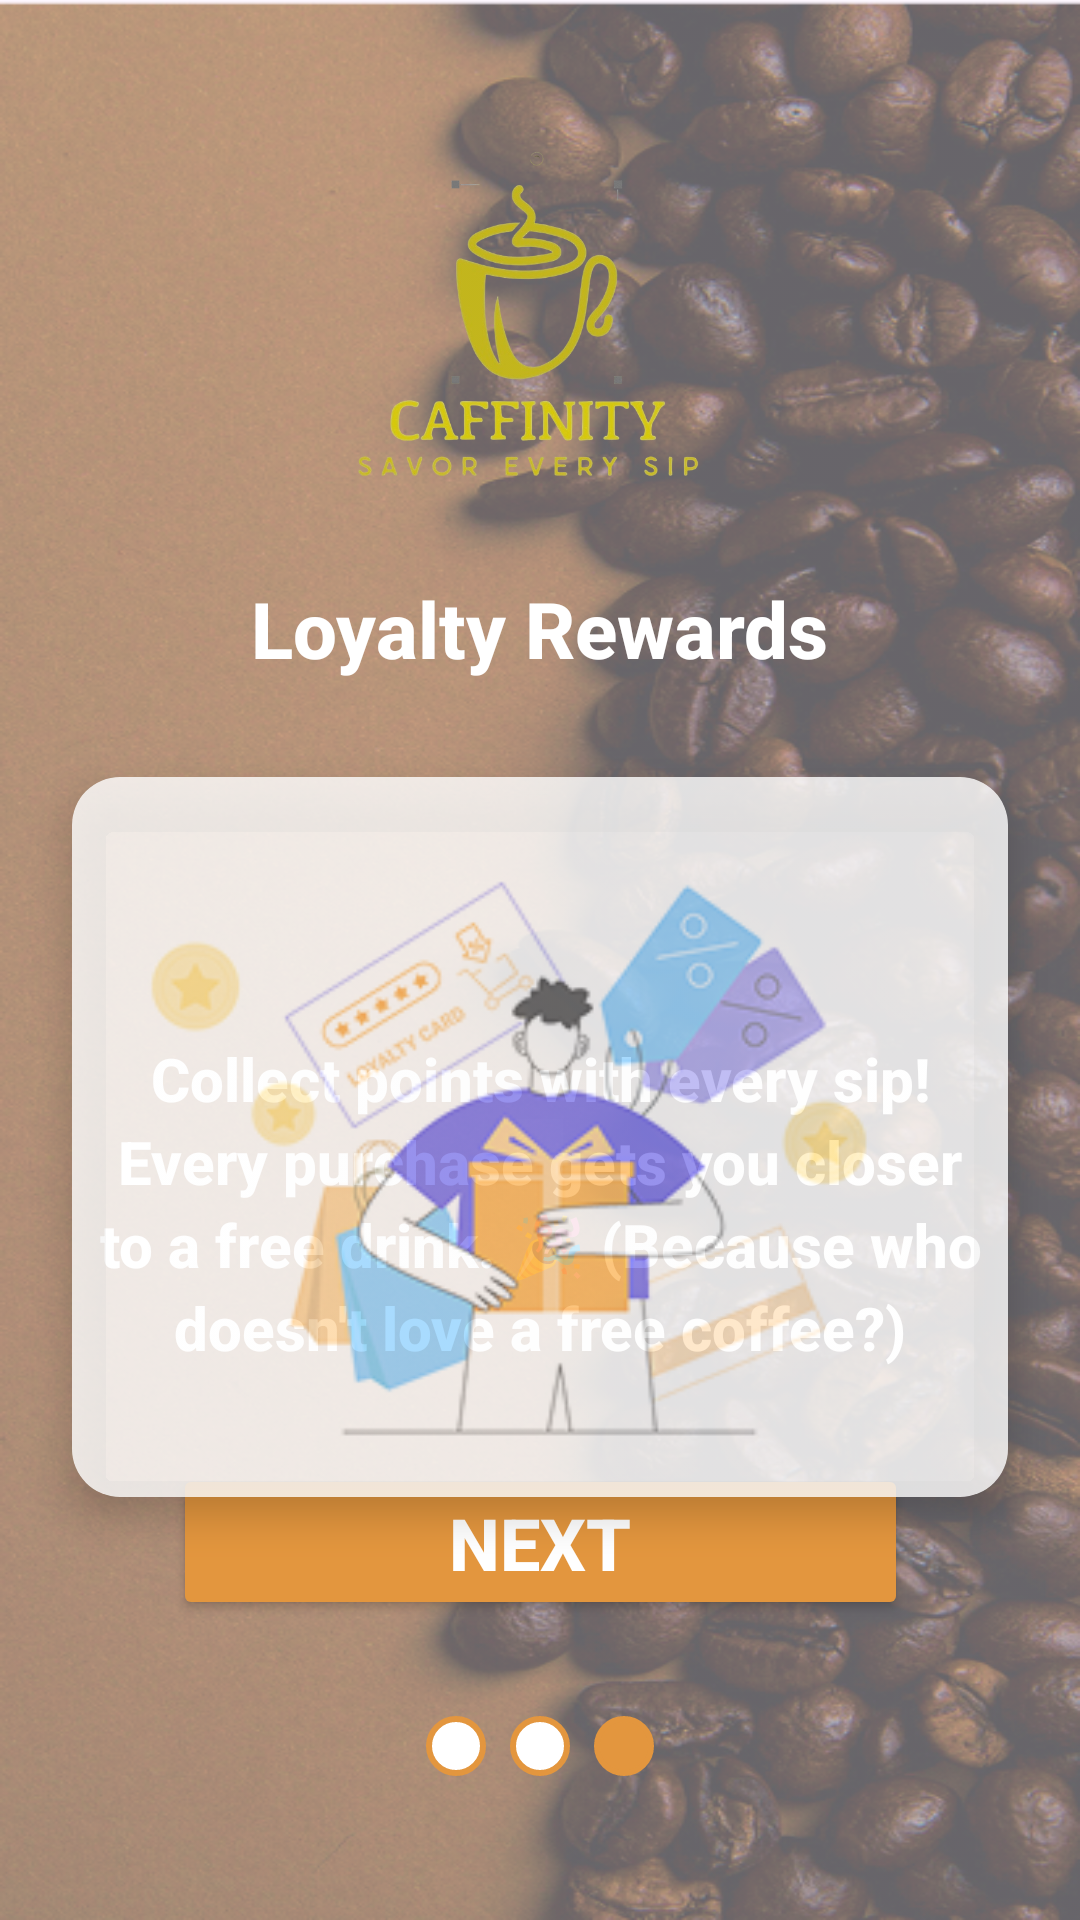

Named icons in this screenshot (1080px x 1920px) and their centers, [x,y]:
dotactive: [624,1746]
dotinactive: [456,1746], [540,1746]
